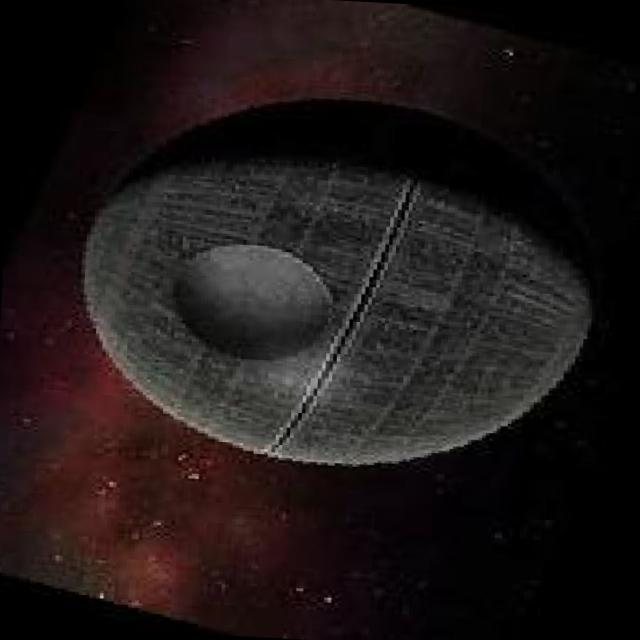Death Star: (67, 91, 600, 488)
